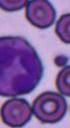E: (0, 35, 44, 95)
